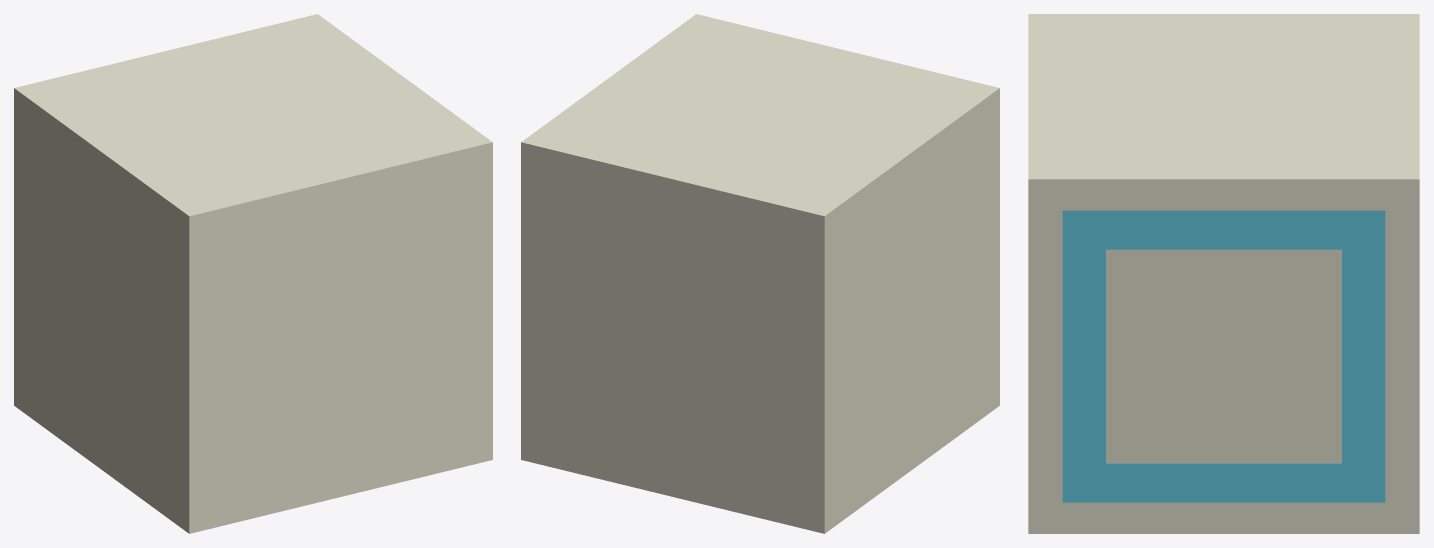
File: deco_structure_input.glb
3 views of the same model, side by side, from view 1: azimuth 30°, elevation 25°; view 2: azimuth 150°, elevation 25°; view 3: azimuth 270°, elevation 25° (orthographic). The views are drawn at different scales.
Visible parts, largest first — view 1: deco_structure_input; view 2: deco_structure_input; view 3: deco_structure_input.
Part boxes in pixels (left/top/right/bottom): deco_structure_input: left=14, top=14, right=492, bottom=533; deco_structure_input: left=521, top=14, right=999, bottom=533; deco_structure_input: left=1028, top=14, right=1419, bottom=533.
Size of the model in its own units: 1 by 1 by 1.
